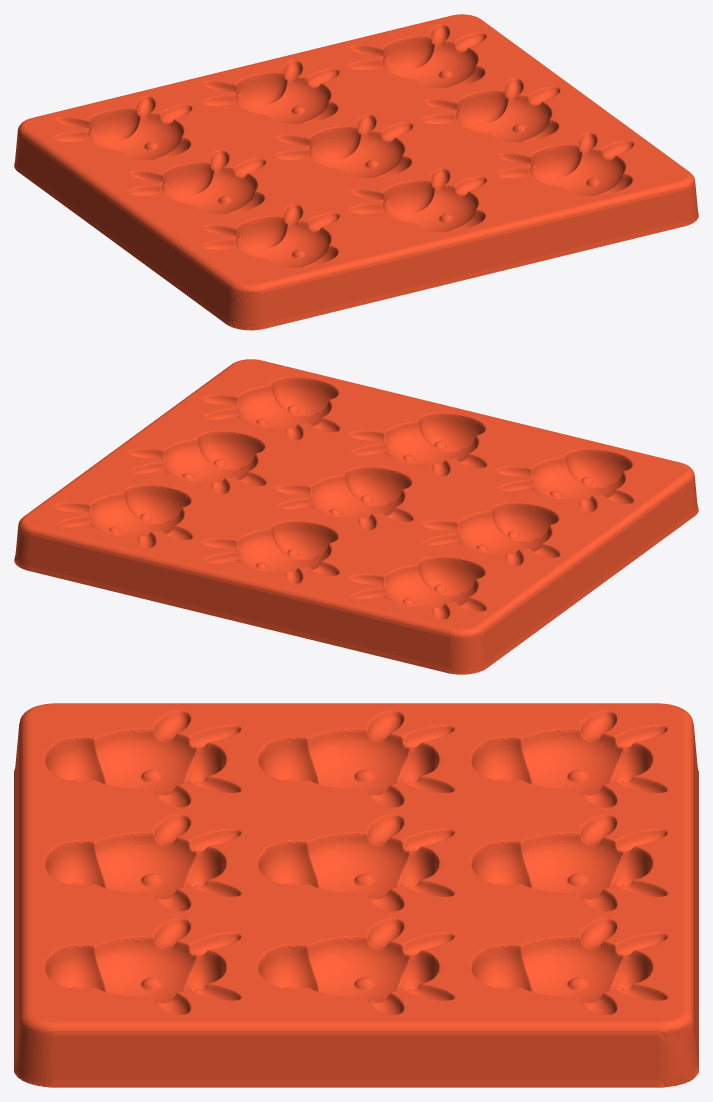
The model's file is mold.glb.
3 views of the same model, one above another, from view 1: azimuth 30°, elevation 25°; view 2: azimuth 150°, elevation 25°; view 3: azimuth 270°, elevation 25° (orthographic). The views are drawn at different scales.
Visible parts, largest first — view 1: geometry_0; view 2: geometry_0; view 3: geometry_0.
Boxes of the visible parts, <box> form: geometry_0: <box>14,14,698,330</box>; geometry_0: <box>14,359,698,674</box>; geometry_0: <box>14,703,698,1087</box>.
Size of the model in its own units: 0.1732 by 0.0145 by 0.1516.
